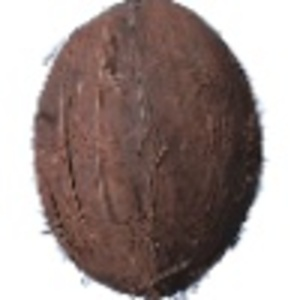coco: (33, 1, 266, 300)
